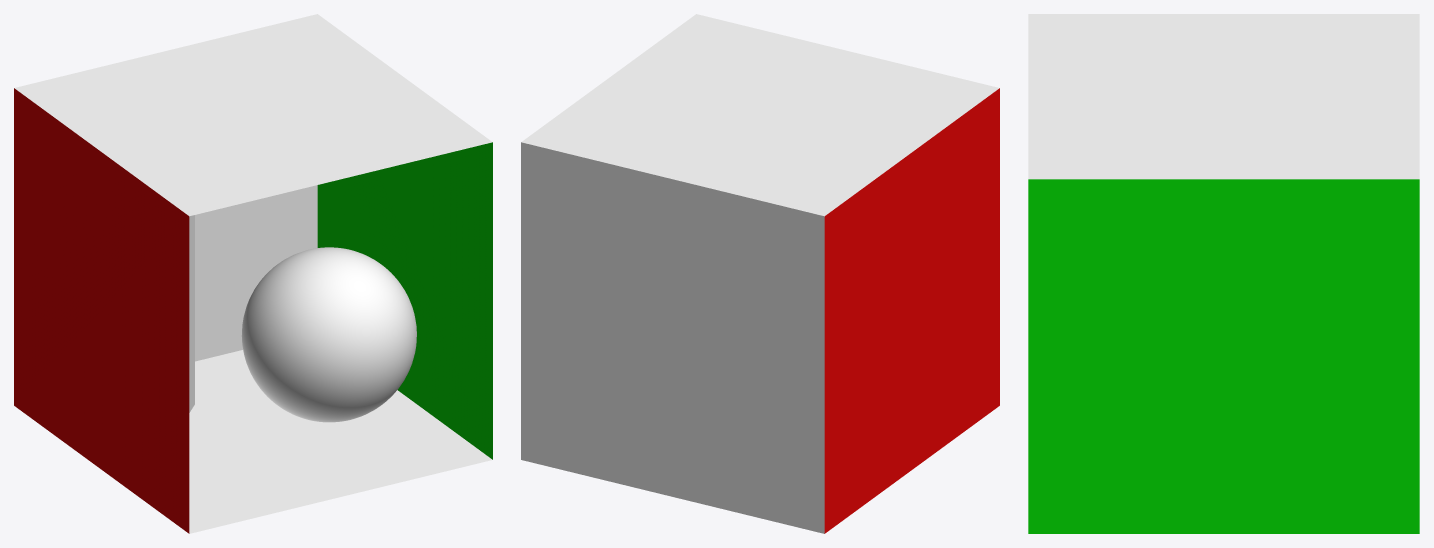
Rendered from cornellbox.obj.
3 renders of one model, left to right at view 1: azimuth 30°, elevation 25°; view 2: azimuth 150°, elevation 25°; view 3: azimuth 270°, elevation 25°, orthographic. The views are drawn at different scales.
Size of the model in its own units: 2 by 2 by 2.
